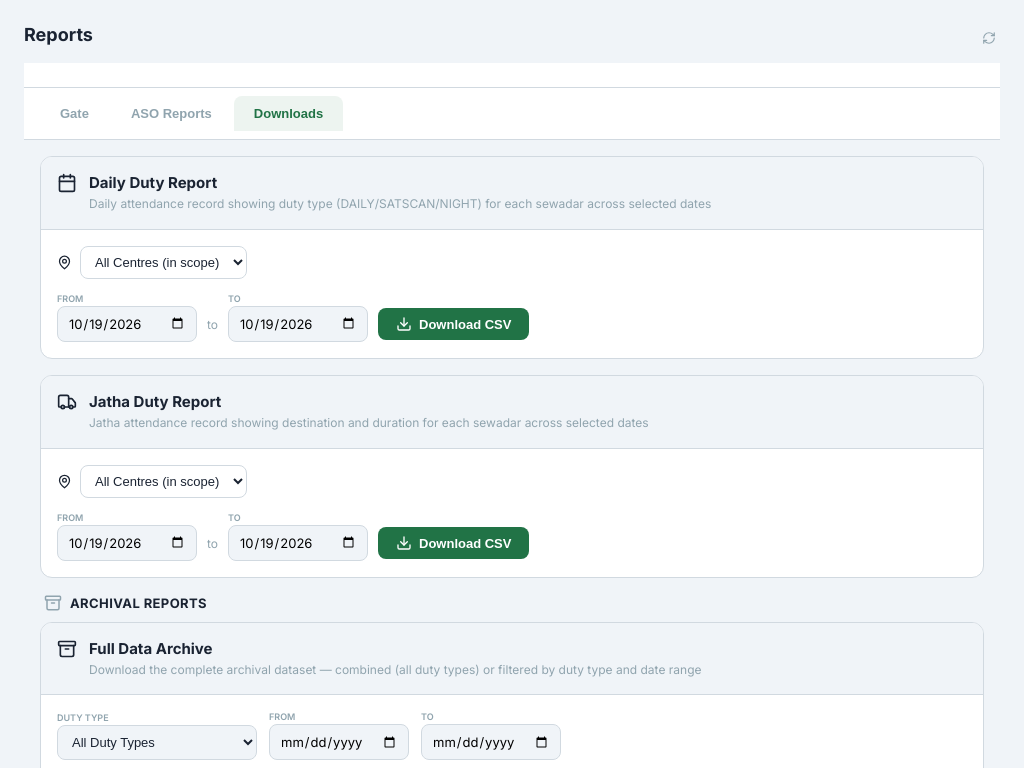
Scenario: archival downloads on the Downloads tab › a queued answer with no working fallback still surfaces its job id
The image size is (1024, 768).
# The filtered button refuses an empty duty type, so pick one first.
Select "JMC — Jatha Major Centre" in the dropdown labelled "Duty Type": {"x": 157, "y": 742} [57,725,257,760]
(page scrolled)
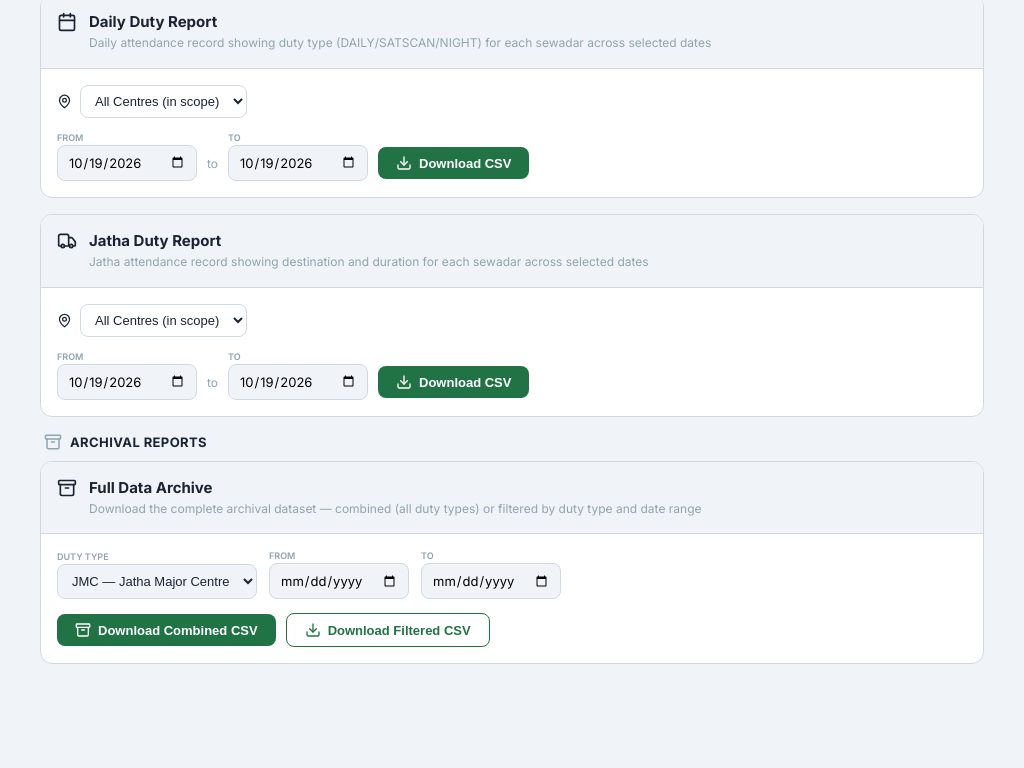
Click the button "Download Filtered CSV": {"x": 388, "y": 630} [286,613,490,647]
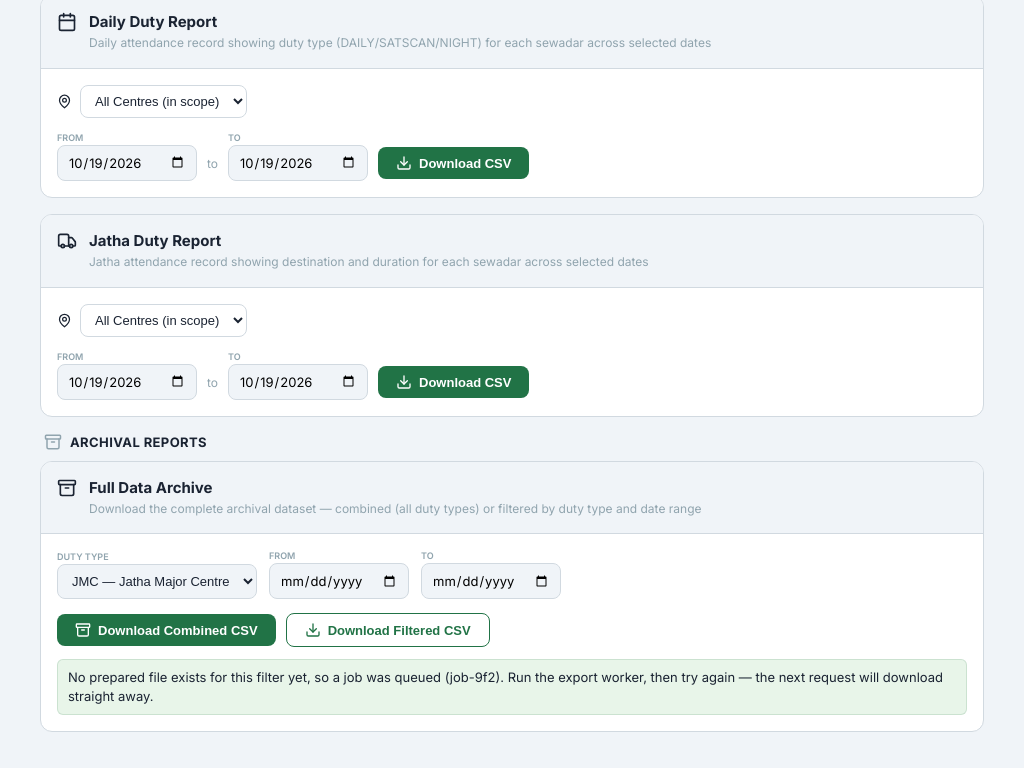
expect the text "job-9f2" is shown: met, box [68,669,943,704]
